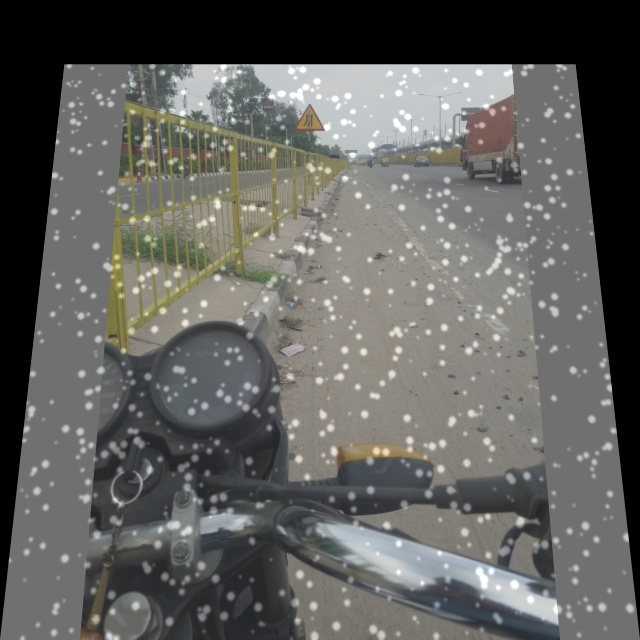Merge_Traffic_Ahead: (292, 98, 331, 136)
